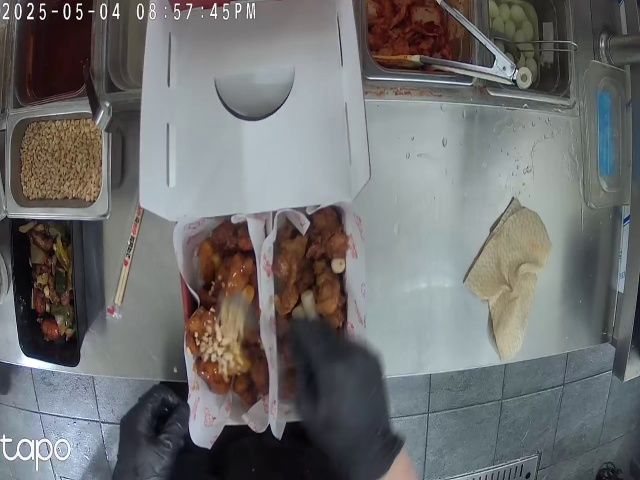delivery box: (153, 12, 353, 462)
food: (190, 218, 259, 411), (276, 211, 342, 322)
hand: (283, 332, 409, 453), (101, 371, 187, 471)
